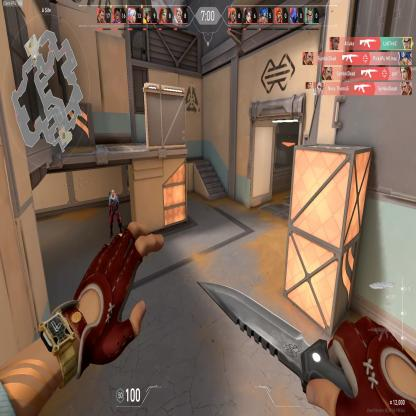enemy: (107, 188, 123, 233)
